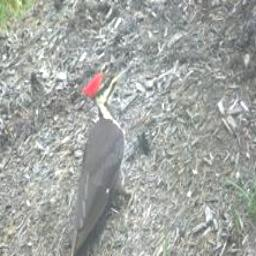Woodpecker: (59, 59, 138, 256)
